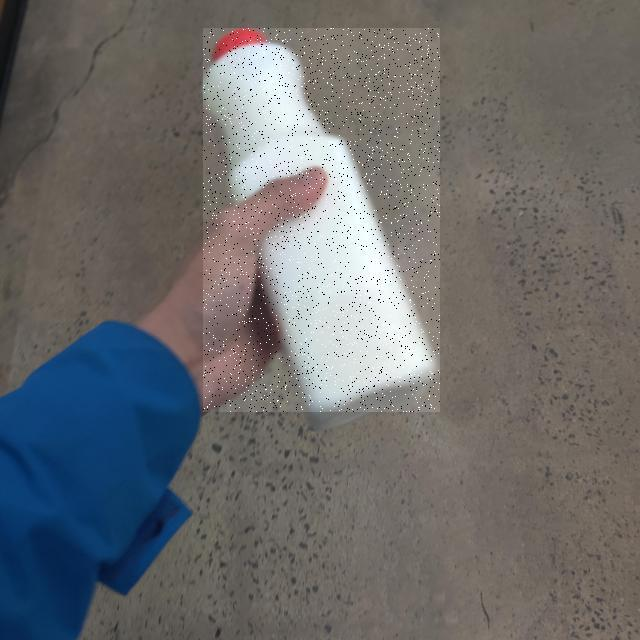Milk: (203, 28, 440, 412)
